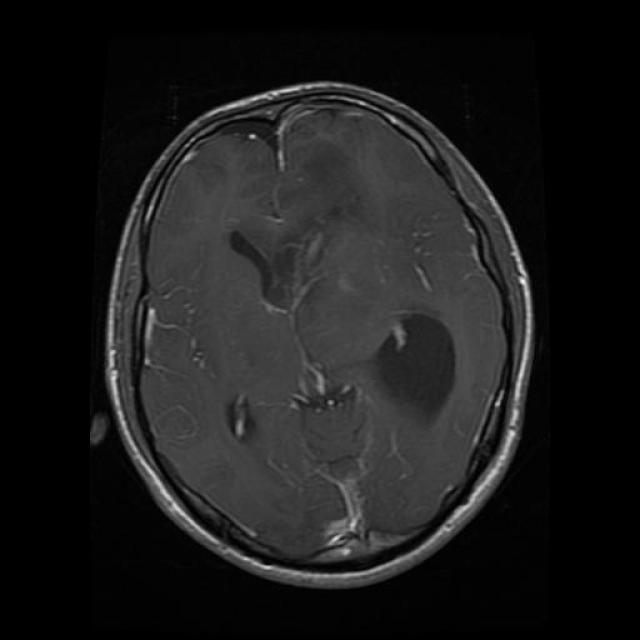glioma: (366, 309, 462, 429), (228, 224, 312, 328)
